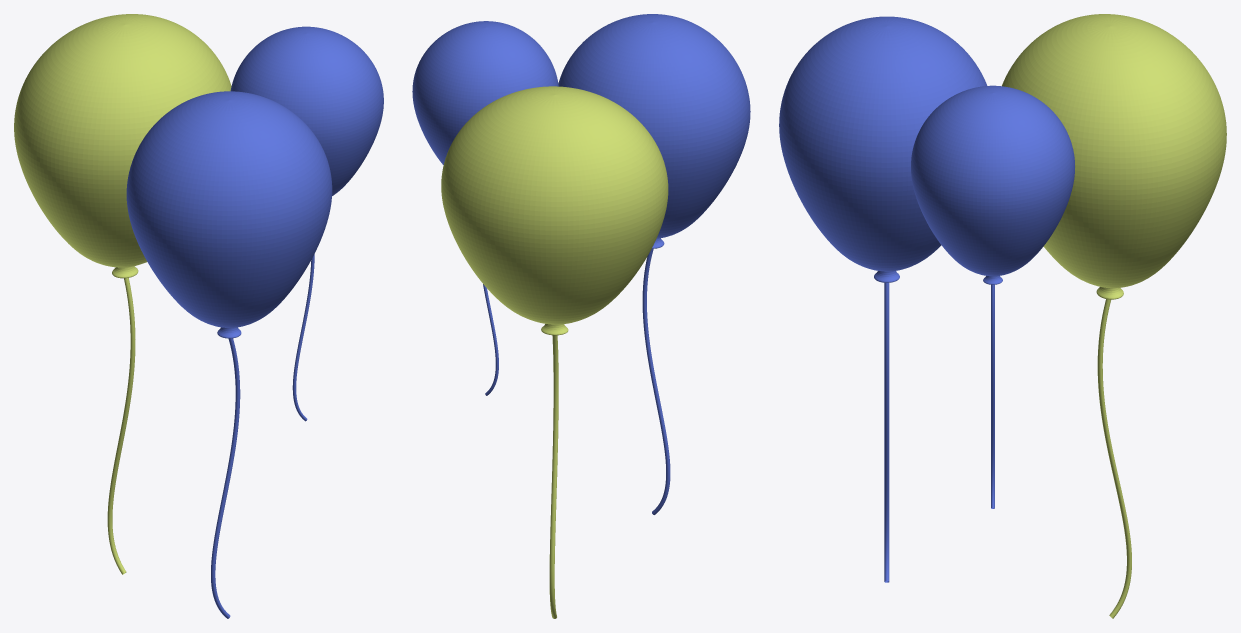
Rendered from Lvl2_balloonlamp_rest.fbx.
3 views of the same model, side by side, from view 1: azimuth 30°, elevation 25°; view 2: azimuth 150°, elevation 25°; view 3: azimuth 270°, elevation 25° (orthographic). The views are drawn at different scales.
Visible parts, largest first — view 1: Balloon3, Balloon4, Balloon2; view 2: Balloon4, Balloon3, Balloon2; view 3: Balloon4, Balloon3, Balloon2.
Part boxes in pixels (x1,y1,x2,y2): Balloon3: (126,91,332,618); Balloon4: (14,14,231,574); Balloon2: (230,26,383,421); Balloon4: (441,86,668,618); Balloon3: (558,14,750,514); Balloon2: (412,21,558,395); Balloon4: (1002,14,1226,618); Balloon3: (779,16,987,582); Balloon2: (911,85,1074,508).
Bounding box in the file's own units: 4.99 × 8.84 × 6.05.
